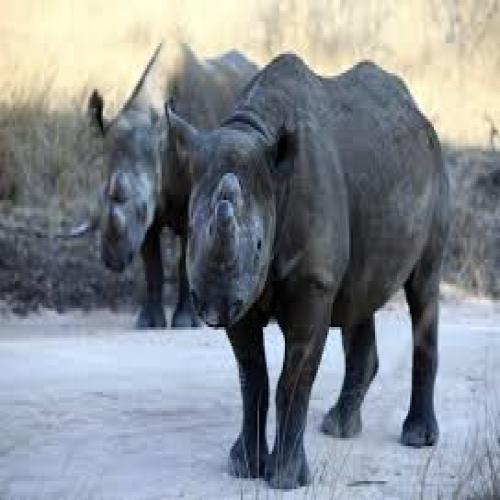rhino-endangered: (177, 59, 445, 476), (87, 52, 272, 325)
